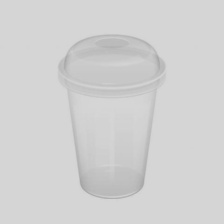glass: (45, 27, 175, 203)
